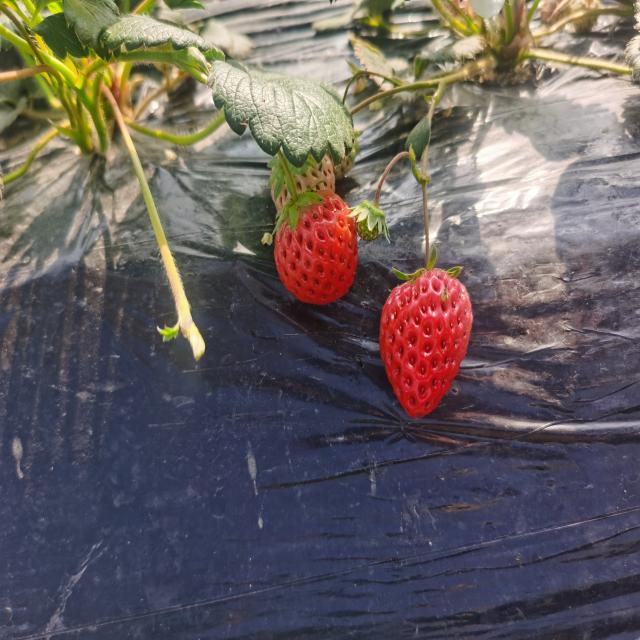stem: (283, 163, 300, 206), (425, 230, 429, 272)
strawberry: (379, 271, 473, 421), (274, 189, 358, 304)
